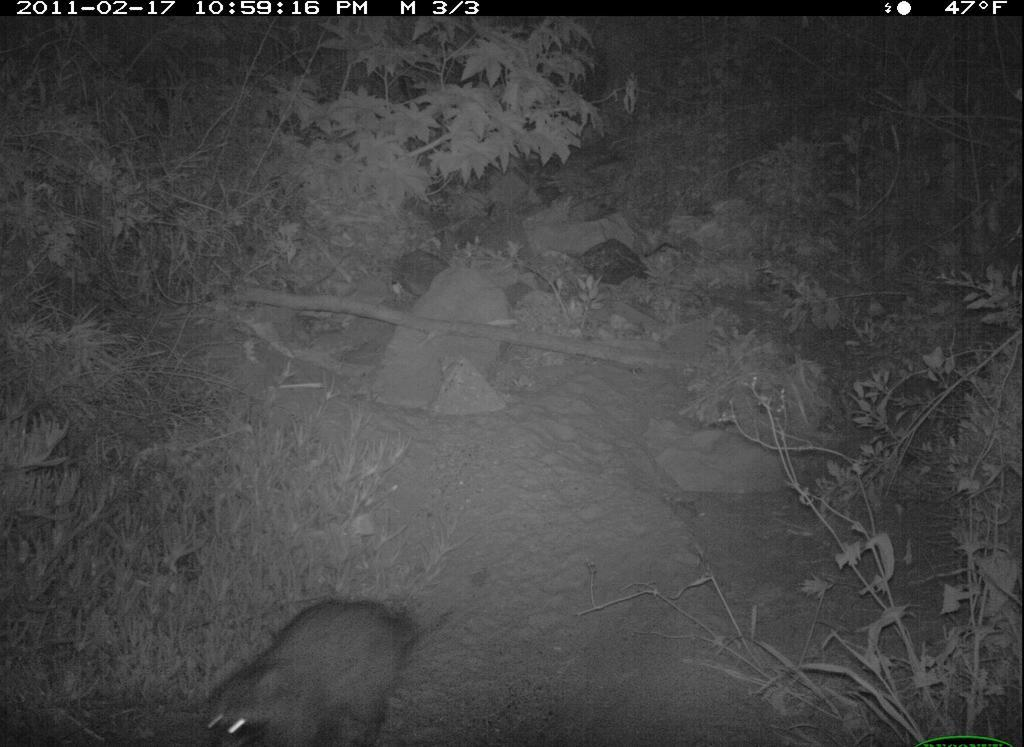raccoon: (176, 569, 427, 744)
